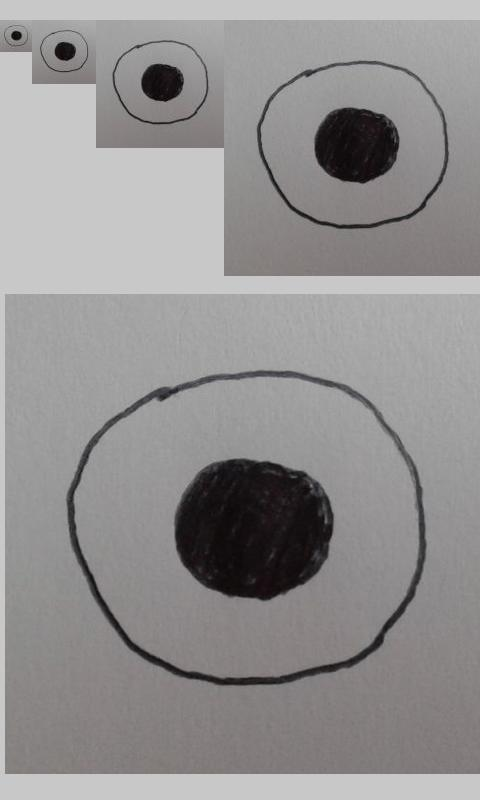radio_button: (65, 367, 431, 690), (255, 59, 450, 230), (111, 39, 209, 125), (39, 29, 89, 73), (3, 24, 29, 47)
